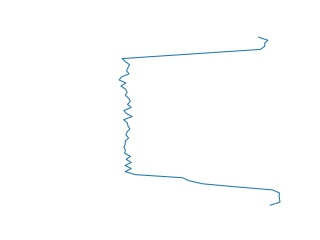distributaryChannelFill: (115, 36, 287, 206)
